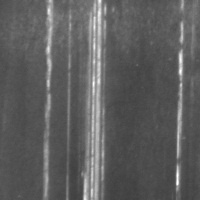scratches: (72, 2, 112, 199), (38, 3, 60, 199), (170, 16, 186, 190)
